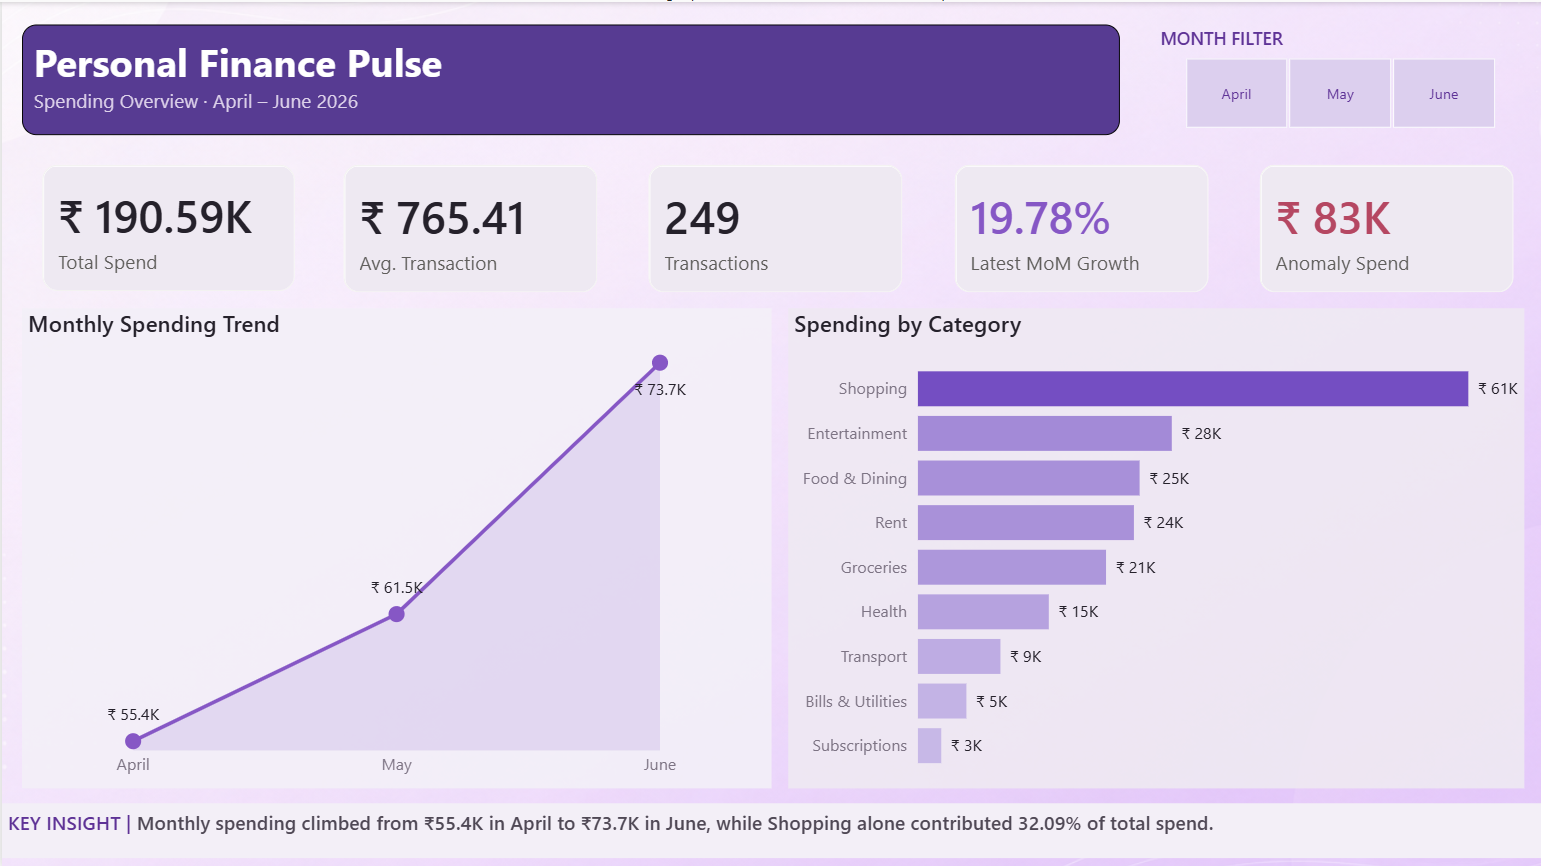

What the dashboard file says about the page in this screenshot:
{"tool":"powerbi","page":{"name":"Spending Overview","canvas":[1280,720],"ordinal":0},"visuals":[{"type":"cardVisual","fields":{"Data":["finpulse transactions.Total Spend"]},"box":[16.3,118.6,244.2,139.5],"z":0},{"type":"cardVisual","fields":{"Data":["finpulse transactions.Transaction Count"]},"box":[521,118.6,245,140],"z":1000},{"type":"cardVisual","fields":{"Data":["finpulse transactions.Average Transaction"]},"box":[267.3,118.6,245,140],"z":2000},{"type":"cardVisual","fields":{"Data":["finpulse transactions.Anomaly Spend"]},"box":[1028.6,118.6,245,140],"z":3000},{"type":"areaChart","title":"Monthly Spending Trend","fields":{"Category":["Calendar.Month"],"Y":["finpulse transactions.Total Spend"]},"box":[16.3,254.7,623.3,398.8],"z":4000},{"type":"clusteredBarChart","title":"Spending by Category","fields":{"Category":["finpulse transactions.category"],"Y":["finpulse transactions.Total Spend"]},"box":[653.5,254.7,611.6,398.8],"z":5000},{"type":"cardVisual","fields":{"Data":["finpulse transactions.Latest MoM Growth %"]},"box":[774.8,118.6,245,140],"z":6000},{"type":"textbox","box":[16.3,18.6,912.8,91.9],"z":7000},{"type":"slicer","title":"MONTH FILTER","fields":{"Values":["Calendar.Month"]},"box":[958.1,19.8,307,91.9],"z":8000},{"type":"textbox","box":[0,666.3,1280.2,45.3],"z":8001}]}

Visuals, with their boxes in screenshot pixels (x1, y1, x2, y2), scaled from the page's 1280x720 canvas onto the 1541x866 screenshot:
cardVisual - finpulse transactions.Total Spend: l=20, t=143, r=314, b=310
cardVisual - finpulse transactions.Transaction Count: l=627, t=143, r=922, b=311
cardVisual - finpulse transactions.Average Transaction: l=322, t=143, r=617, b=311
cardVisual - finpulse transactions.Anomaly Spend: l=1238, t=143, r=1533, b=311
"Monthly Spending Trend" areaChart: l=20, t=306, r=770, b=786
"Spending by Category" clusteredBarChart: l=787, t=306, r=1523, b=786
cardVisual - finpulse transactions.Latest MoM Growth %: l=933, t=143, r=1228, b=311
textbox: l=20, t=22, r=1119, b=133
"MONTH FILTER" slicer: l=1153, t=24, r=1523, b=134
textbox: l=0, t=801, r=1540, b=856
